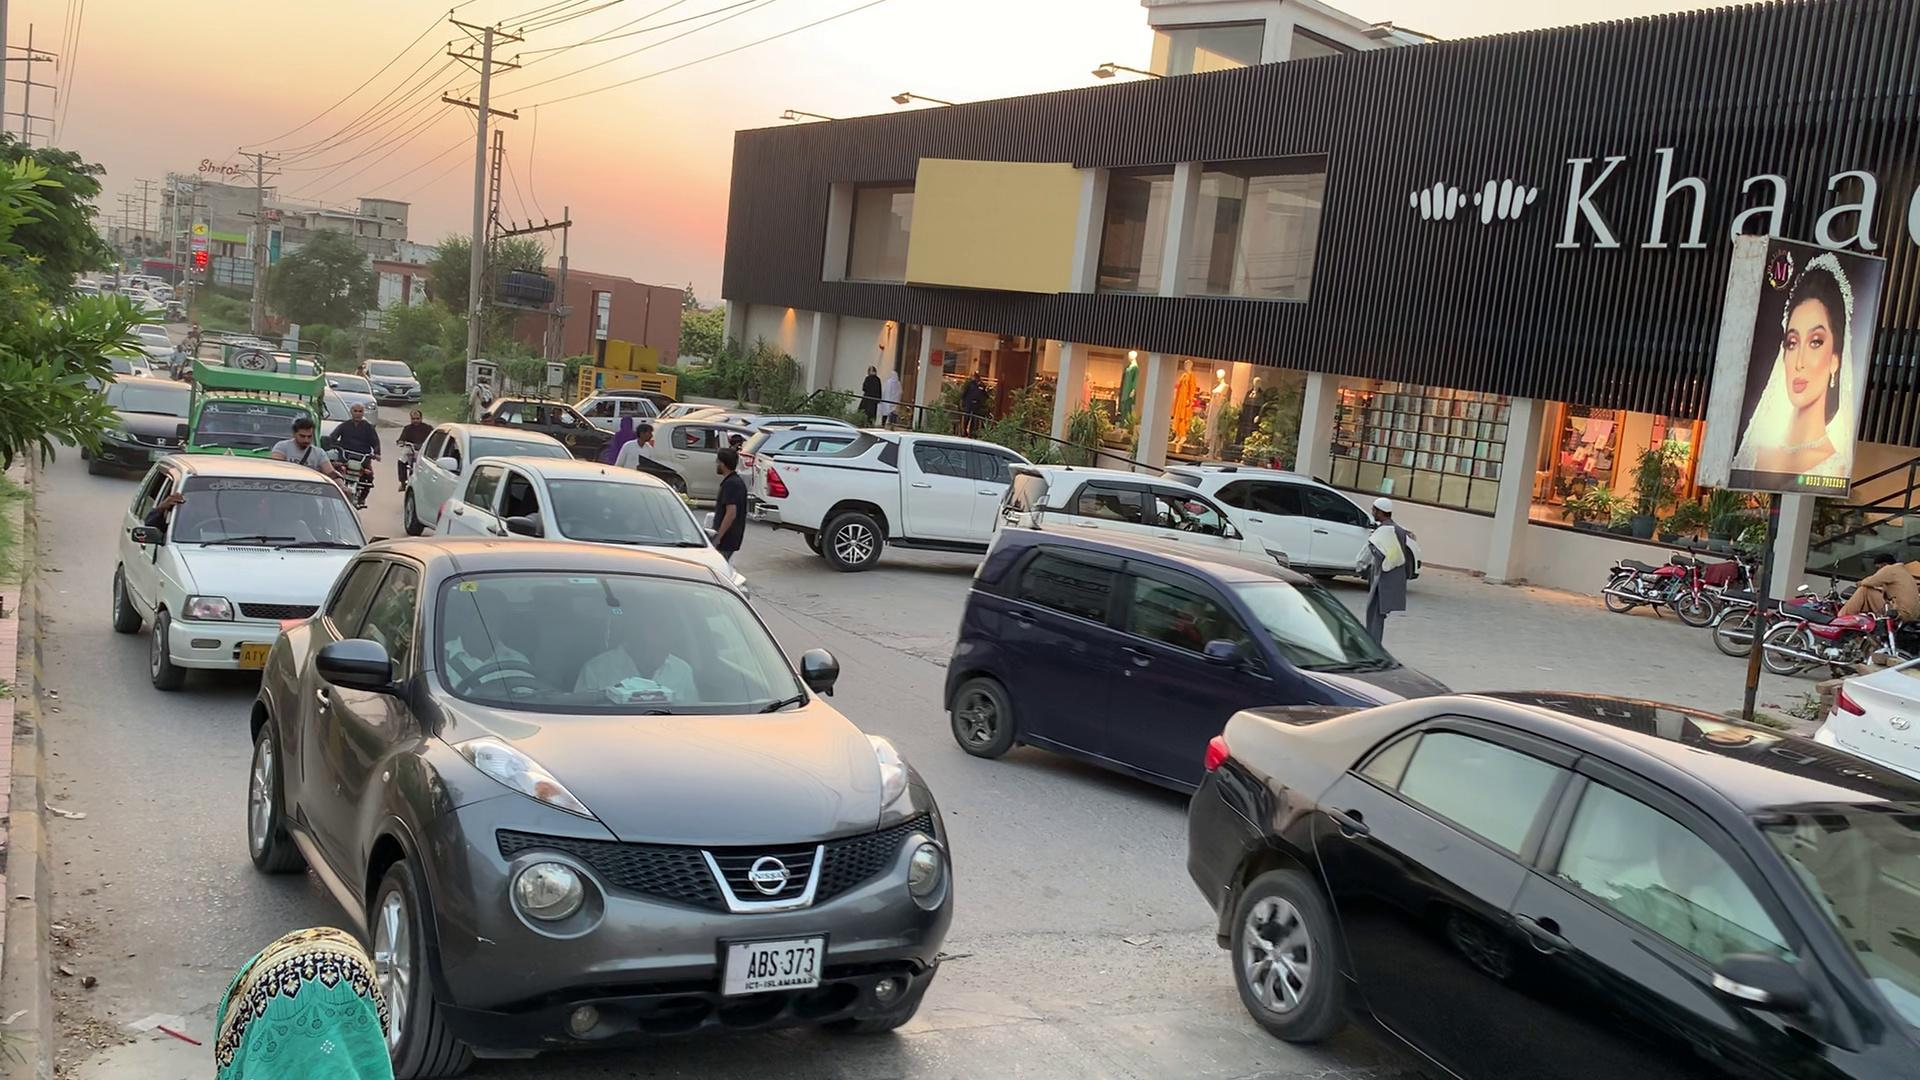windshield: (434, 570, 811, 707), (169, 473, 375, 550), (1241, 578, 1398, 673)
